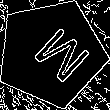M_SW: (16, 19, 86, 87)
